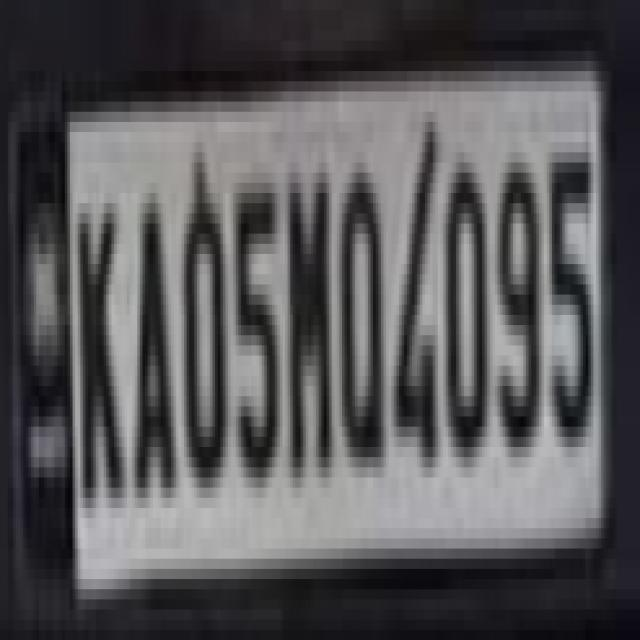0: (446, 157, 490, 466)
4: (392, 166, 440, 479)
5: (546, 139, 598, 453), (234, 174, 282, 485)
9: (496, 152, 544, 462)
A: (132, 191, 178, 507)
K: (75, 184, 126, 503), (178, 189, 228, 497)
M: (286, 162, 334, 476)
Q: (338, 162, 388, 476)
